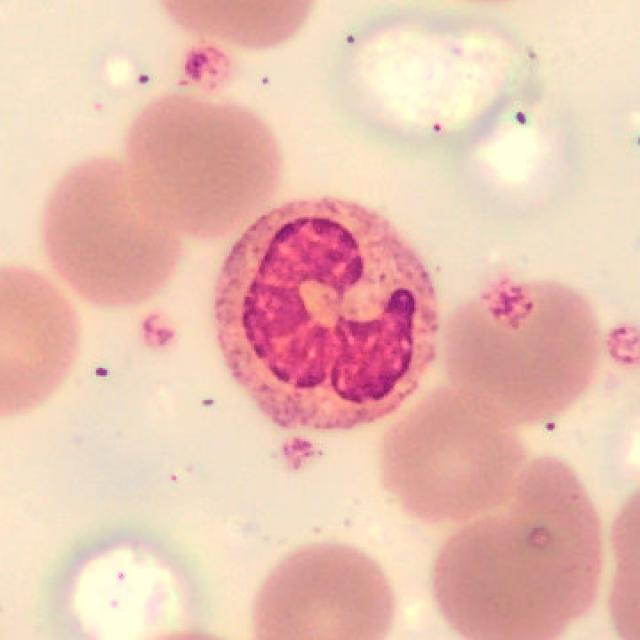Neutrofilo segmentado: (217, 199, 441, 432)
